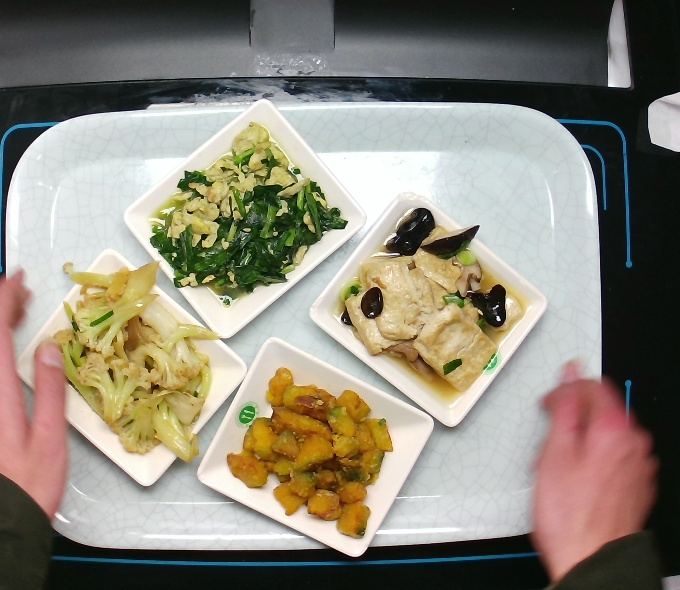wcq-DanHuangNanGua: (229, 360, 394, 550)
wcq-JiaChangDouFu: (334, 200, 525, 396)
wcq-JiuCaiJiDan: (140, 117, 350, 303)
wcq-QiuCai: (58, 262, 225, 469)
